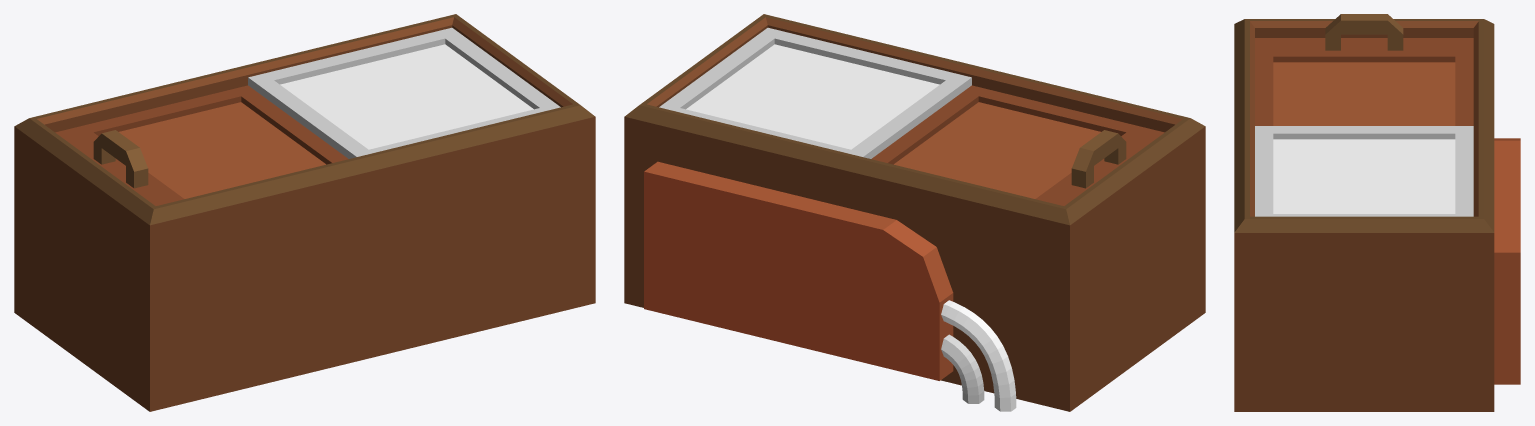
Rendered from Lamb_Ribs_Provider.fbx.
The picture shows the model from 3 angles, left to right: view 1: azimuth 30°, elevation 25°; view 2: azimuth 150°, elevation 25°; view 3: azimuth 270°, elevation 25°; orthographic projection. The views are drawn at different scales.
Visible parts, largest first — view 1: locker_frame, locker_door, locker_sliding_door; view 2: locker_frame, locker_door, locker_sliding_door, locker_wire; view 3: locker_frame, locker_sliding_door, locker_door.
Part boxes in pixels (x1=…): locker_frame: x1=14, y1=14, x2=595, y2=411; locker_door: x1=248, y1=27, x2=560, y2=158; locker_sliding_door: x1=55, y1=85, x2=348, y2=205; locker_frame: x1=624, y1=14, x2=1205, y2=411; locker_door: x1=659, y1=27, x2=971, y2=158; locker_sliding_door: x1=871, y1=85, x2=1164, y2=205; locker_wire: x1=941, y1=300, x2=1016, y2=411; locker_frame: x1=1234, y1=19, x2=1520, y2=411; locker_sliding_door: x1=1255, y1=14, x2=1473, y2=125; locker_door: x1=1255, y1=126, x2=1473, y2=216.
Size of the model in its own units: 95 by 44.27 by 55.04.
